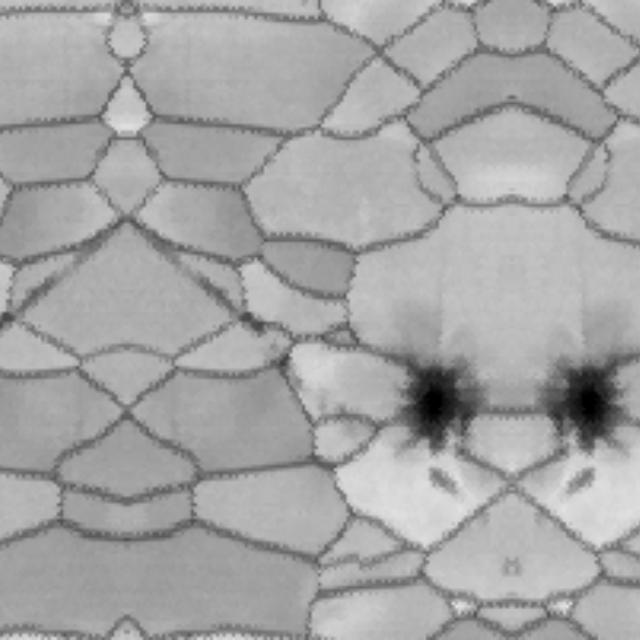good_void: (382, 355, 493, 483), (533, 355, 640, 483), (291, 373, 312, 392)
